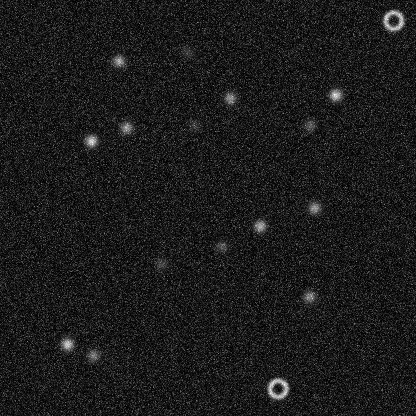Ring: (381, 8, 405, 32), (265, 376, 289, 400)
Spot: (59, 336, 75, 352), (85, 347, 101, 363), (153, 255, 169, 271), (186, 117, 202, 133), (118, 119, 134, 135), (301, 288, 317, 304), (222, 90, 238, 106), (327, 86, 343, 102), (110, 52, 126, 68), (179, 43, 195, 59), (83, 132, 99, 148), (251, 218, 267, 234), (213, 238, 229, 254), (306, 199, 322, 215), (301, 117, 317, 133)
